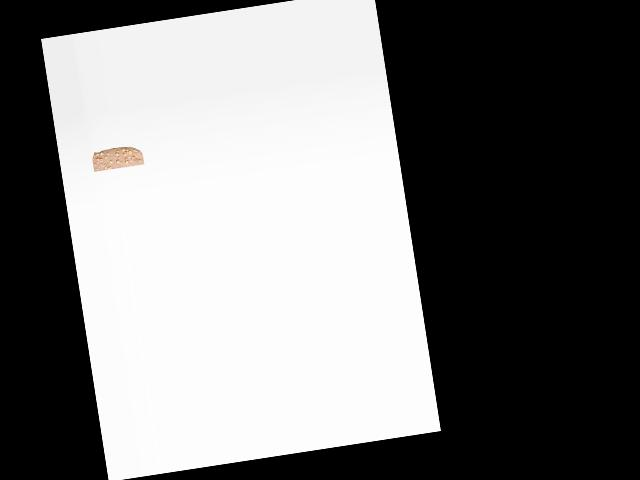chocolate: (90, 140, 144, 174)
